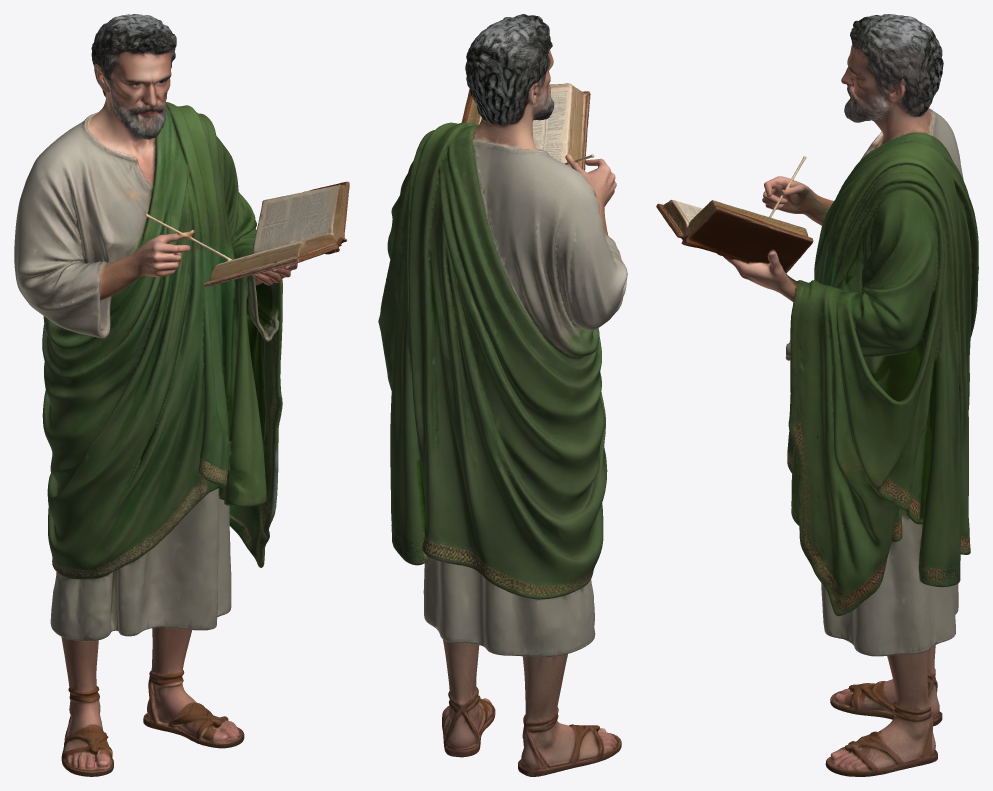
The model's file is Meshy_AI_Luke_0321020432_texture.glb.
The picture shows the model from 3 angles, left to right: view 1: azimuth 30°, elevation 25°; view 2: azimuth 150°, elevation 25°; view 3: azimuth 270°, elevation 25°; orthographic projection.
Bounding box in the file's own units: 0.665 × 1.9 × 0.7723.
Materials: 1 (1 with a texture image).
